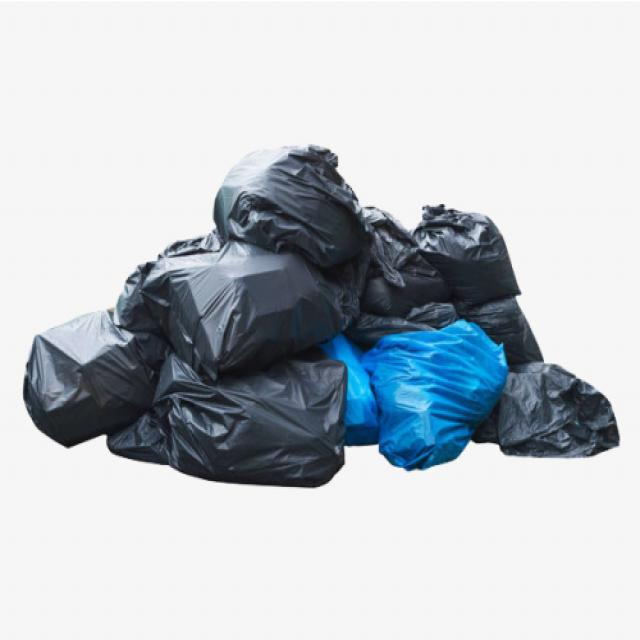plastic_bag: (143, 223, 318, 361), (360, 335, 501, 460), (233, 158, 389, 260), (20, 318, 148, 436), (424, 186, 513, 306), (508, 364, 606, 462), (367, 215, 427, 322)
